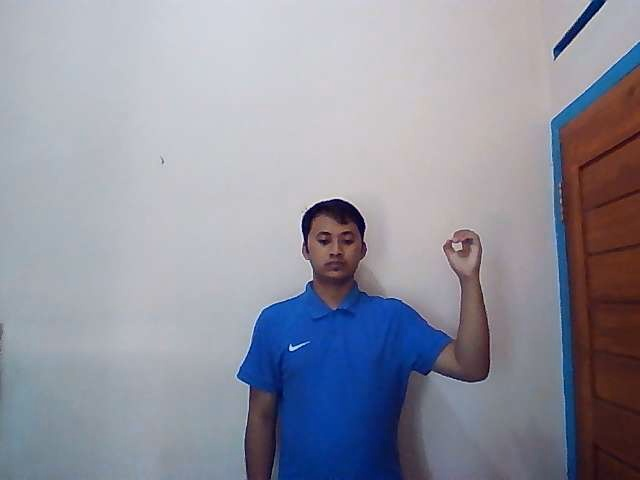O: (442, 227, 484, 278)
